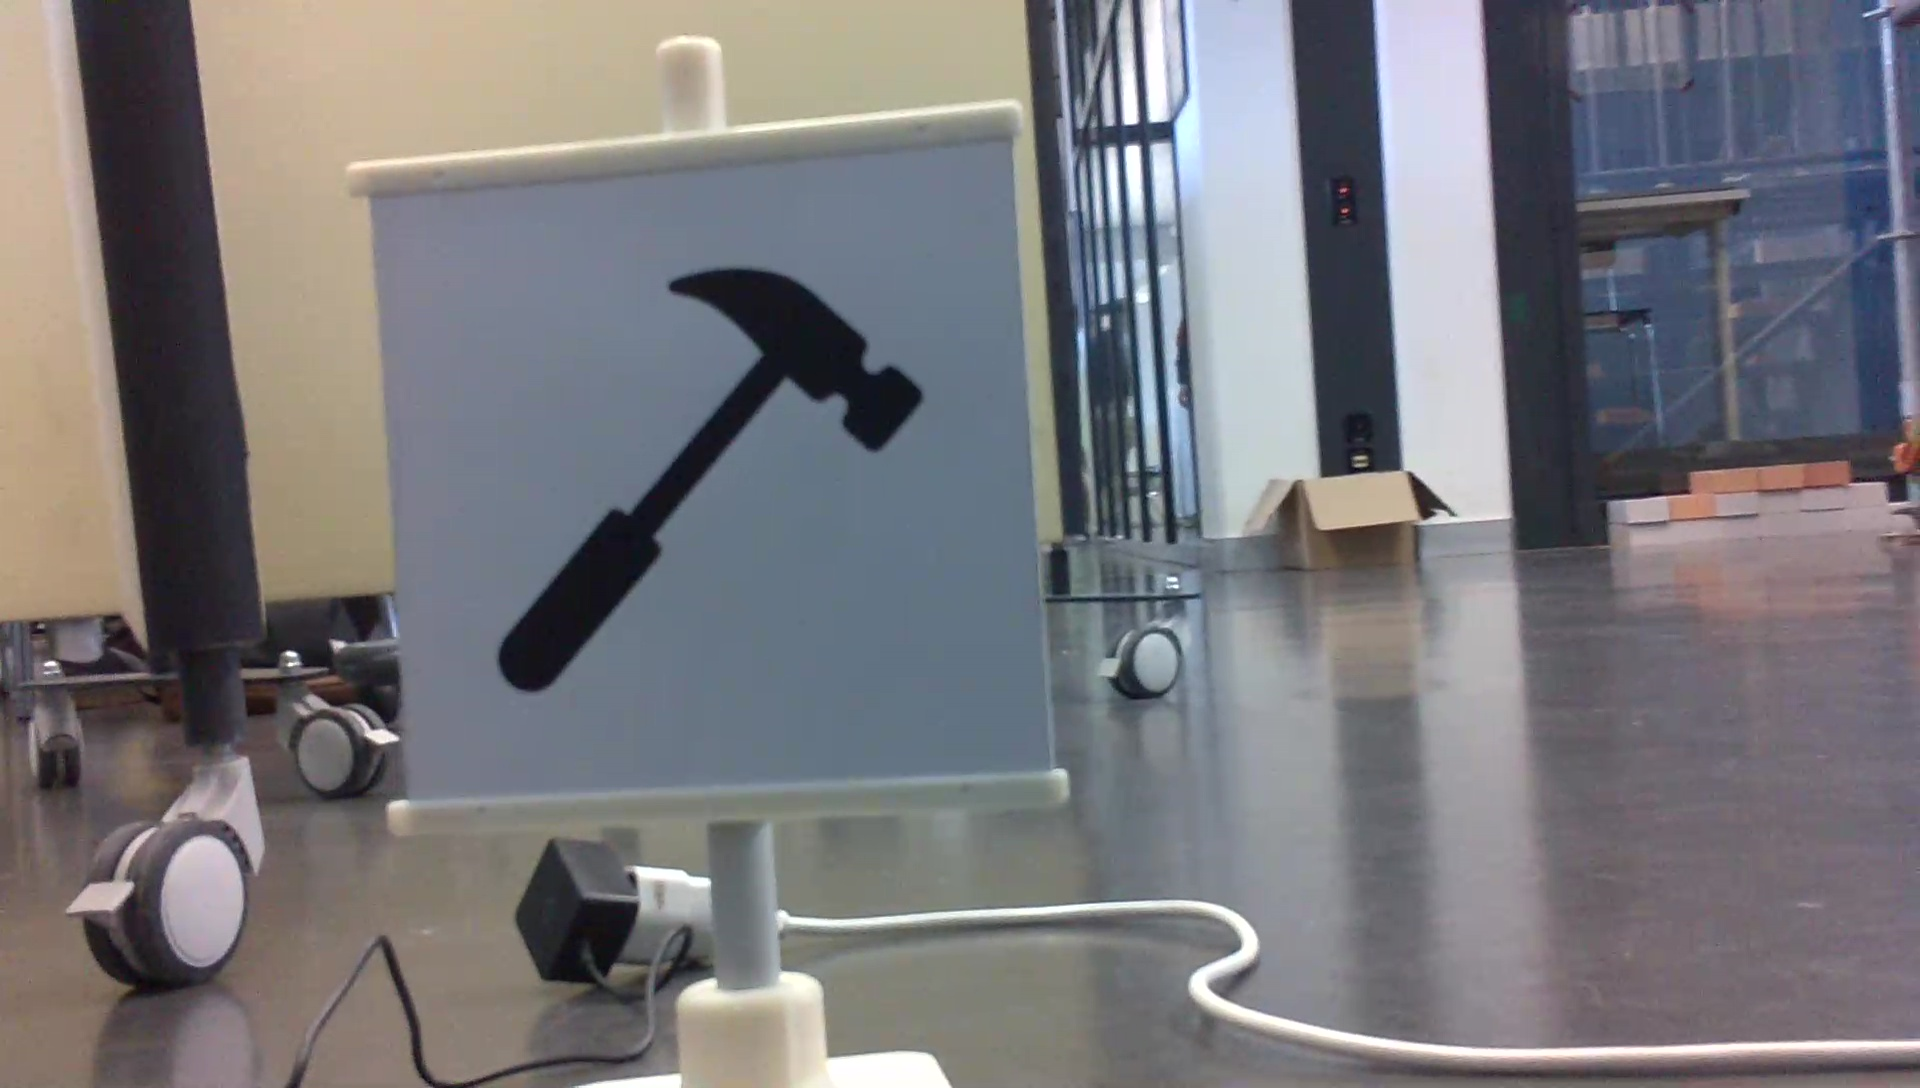hammer: (485, 257, 932, 706)
